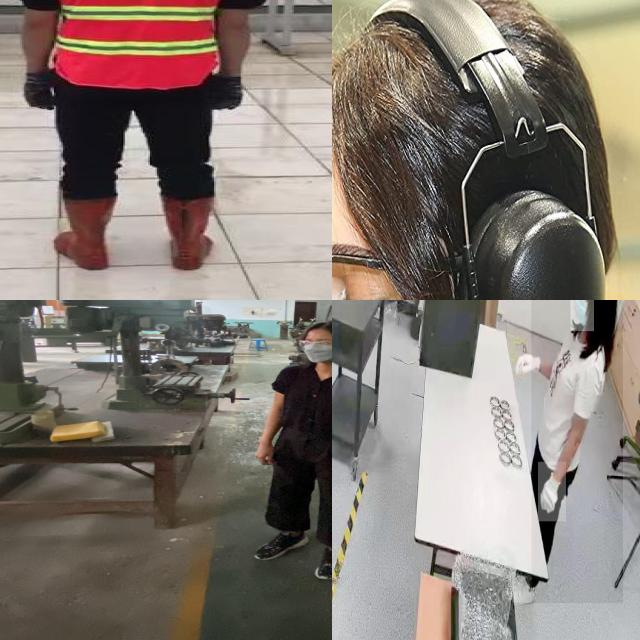Ear-protection: (370, 0, 619, 300)
boots: (153, 192, 220, 273), (52, 194, 118, 272)
face_mask: (291, 337, 332, 362), (570, 300, 593, 331)
glasses: (332, 235, 435, 300), (290, 339, 332, 349)
hand_glove: (12, 75, 59, 112), (538, 462, 566, 522), (215, 79, 250, 113), (516, 344, 544, 386)
hand_noglove: (250, 444, 278, 464)
head_nohelmet: (297, 318, 332, 337)
person: (3, 0, 262, 274), (531, 300, 623, 604), (244, 317, 332, 583)
shoes: (250, 528, 317, 564), (306, 542, 332, 582)
vest: (56, 0, 230, 85)
